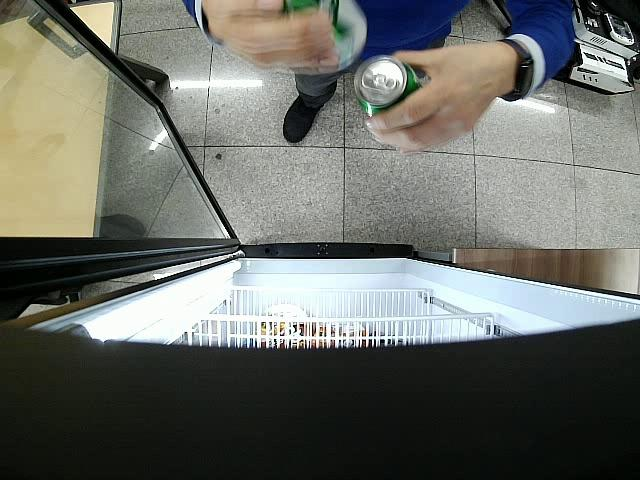00_hand: (362, 43, 507, 156), (202, 0, 341, 75)
12_chilsungCider: (284, 0, 367, 72), (354, 56, 422, 117)
